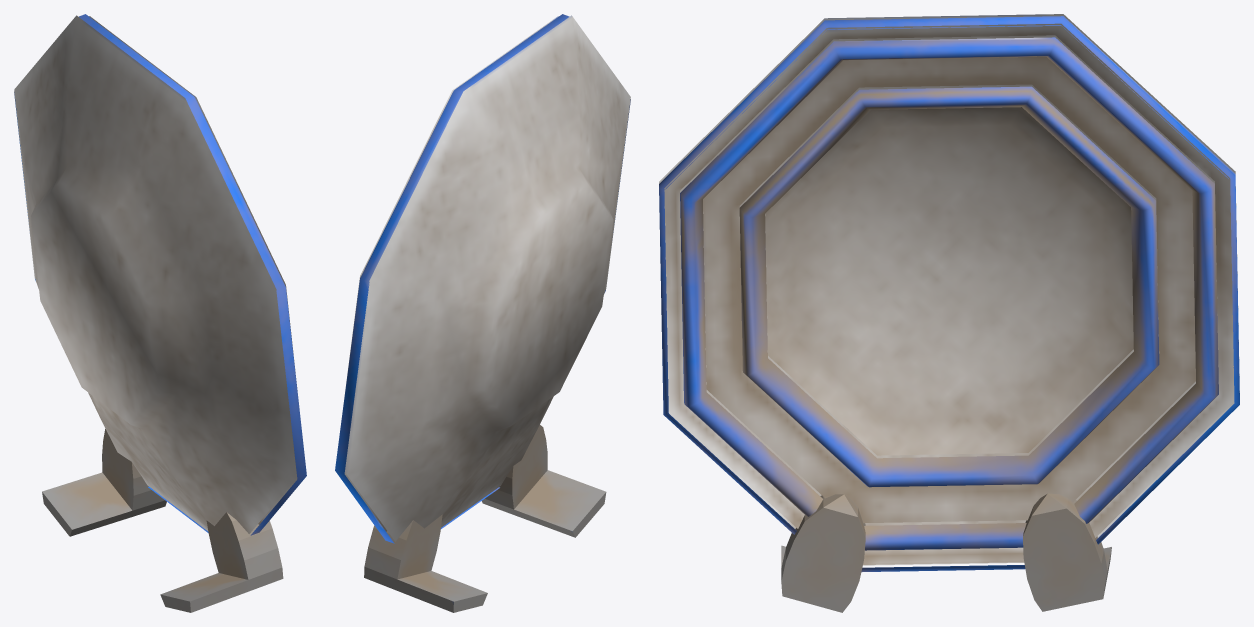
Rendered from PlateLP.fbx.
3 views of the same model, side by side, from view 1: azimuth 30°, elevation 25°; view 2: azimuth 150°, elevation 25°; view 3: azimuth 270°, elevation 25° (orthographic). The views are drawn at different scales.
Visible parts, largest first — view 1: Plate; view 2: Plate; view 3: Plate.
Part boxes in pixels (x1=…): Plate: x1=14, y1=14, x2=306, y2=612; Plate: x1=335, y1=14, x2=630, y2=612; Plate: x1=659, y1=14, x2=1239, y2=612.
Bounding box in the file's own units: 72.22 × 281 × 260.
